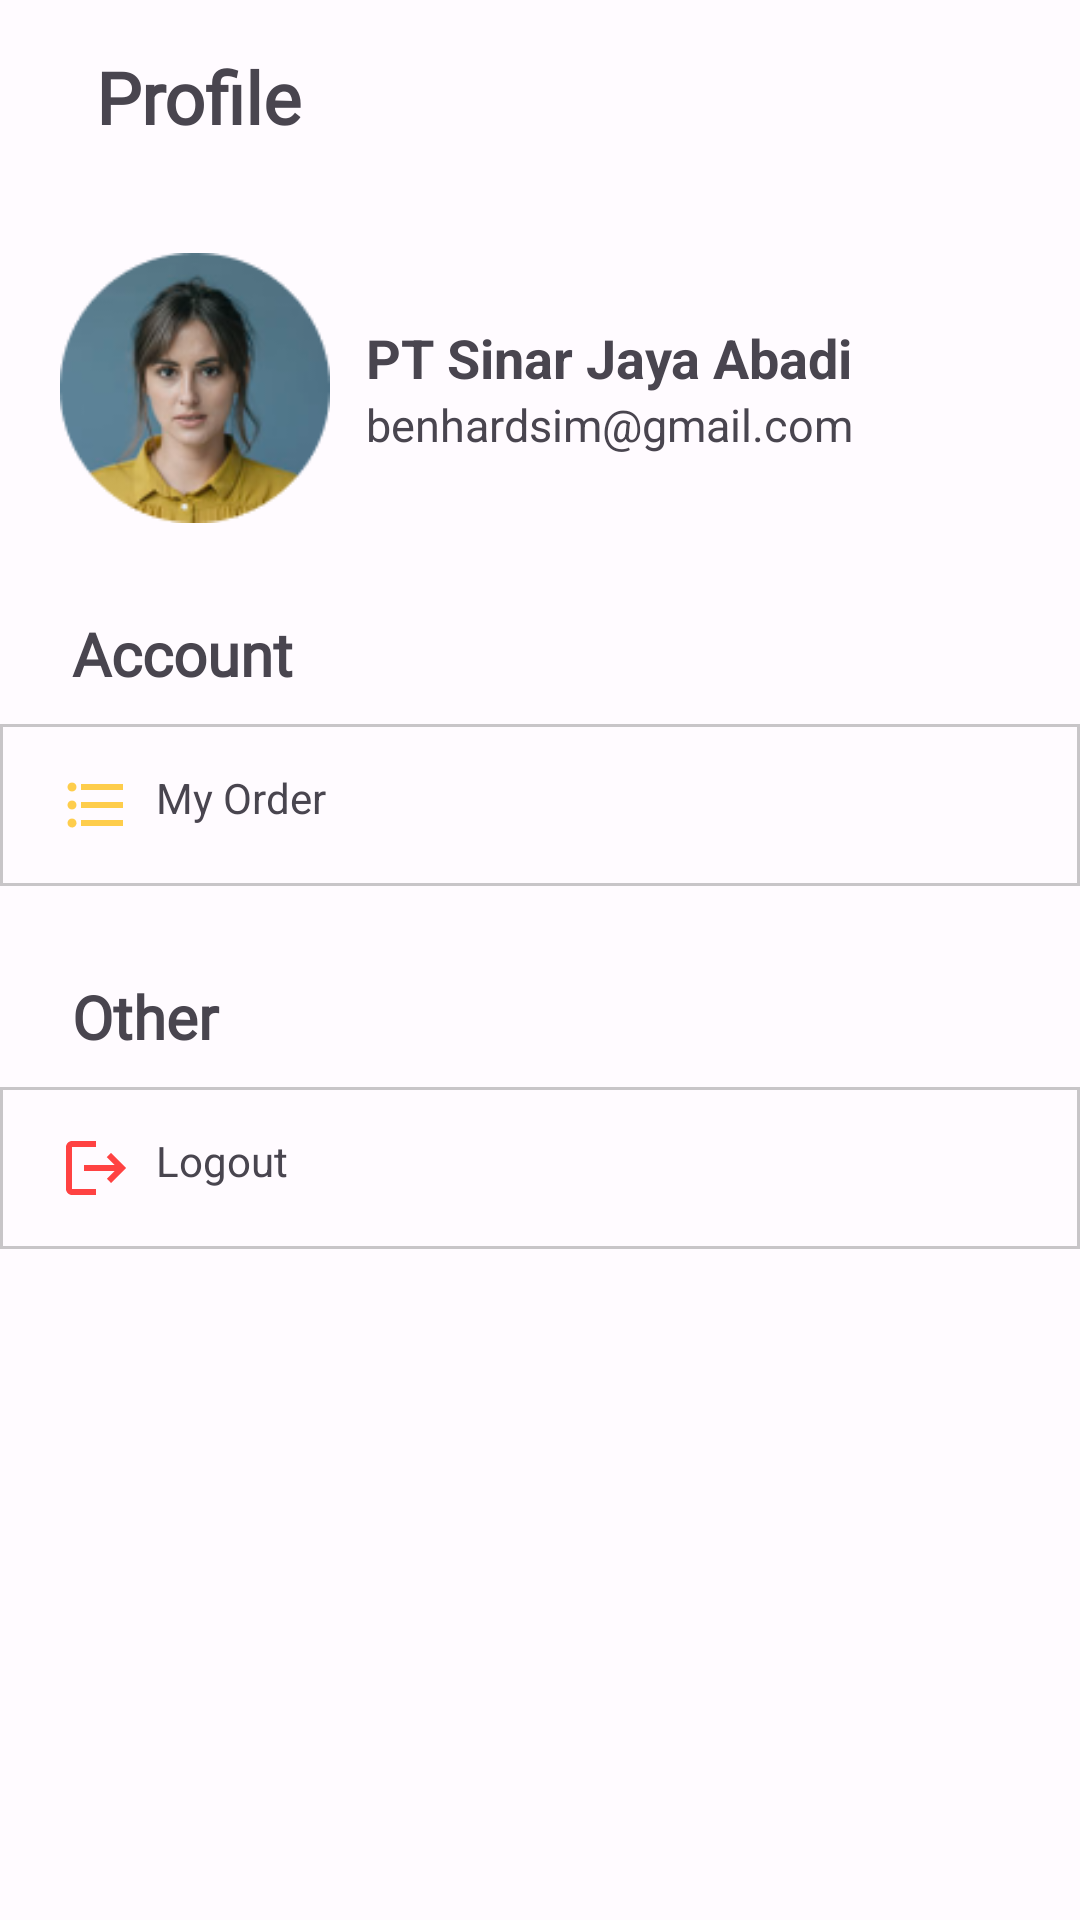

Named icons in this screenshot (1080x1920) and their centers, point (x, y):
format list bulleted: point (95, 805)
